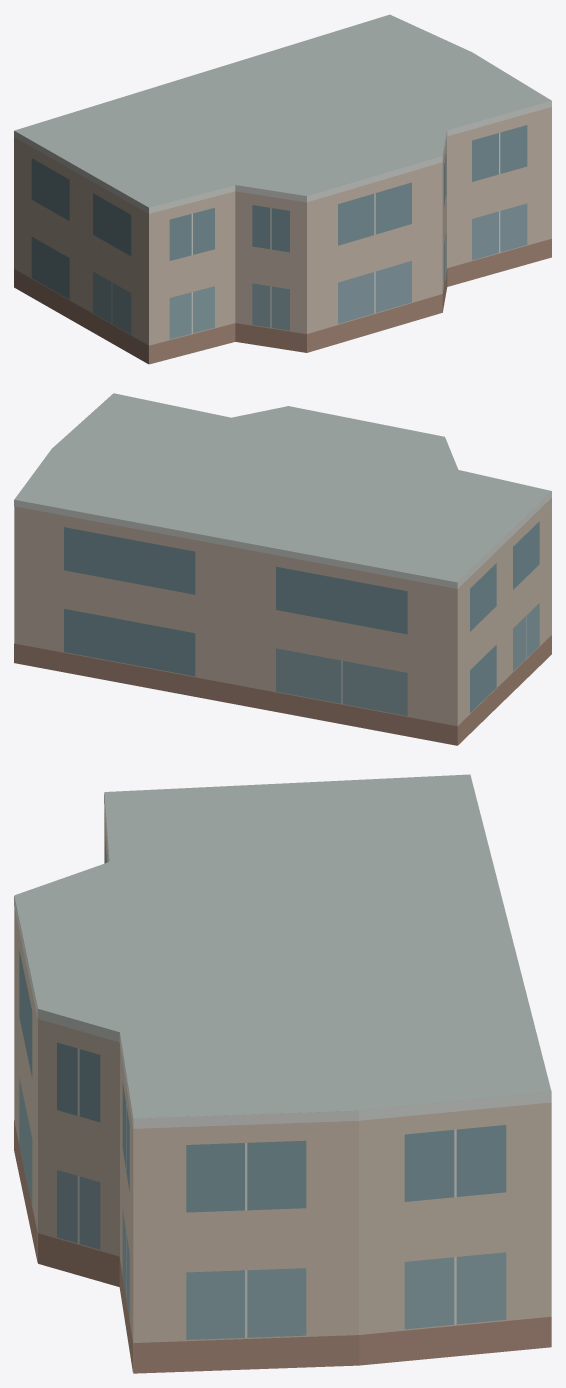
File: survey-upis-32917964.glb
3 renders of one model, top to bottom at view 1: azimuth 30°, elevation 25°; view 2: azimuth 150°, elevation 25°; view 3: azimuth 270°, elevation 25°, orthographic. The views are drawn at different scales.
Parts seen in each view (by area): view 1: survey-upis-32917964.tmp; view 2: survey-upis-32917964.tmp; view 3: survey-upis-32917964.tmp.
Boxes of the visible parts, x1=… form: survey-upis-32917964.tmp: x1=14, y1=14, x2=551, y2=364; survey-upis-32917964.tmp: x1=14, y1=393, x2=551, y2=745; survey-upis-32917964.tmp: x1=14, y1=774, x2=551, y2=1373.
Size of the model in its own units: 17.68 by 6.1 by 11.67.
